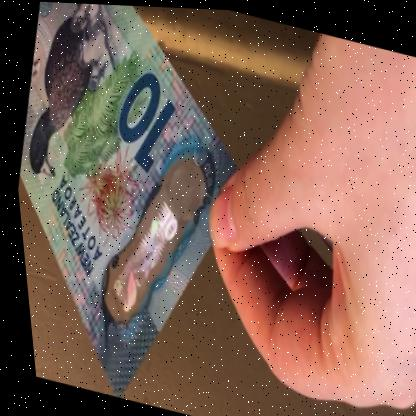10F: (93, 183, 190, 327)
